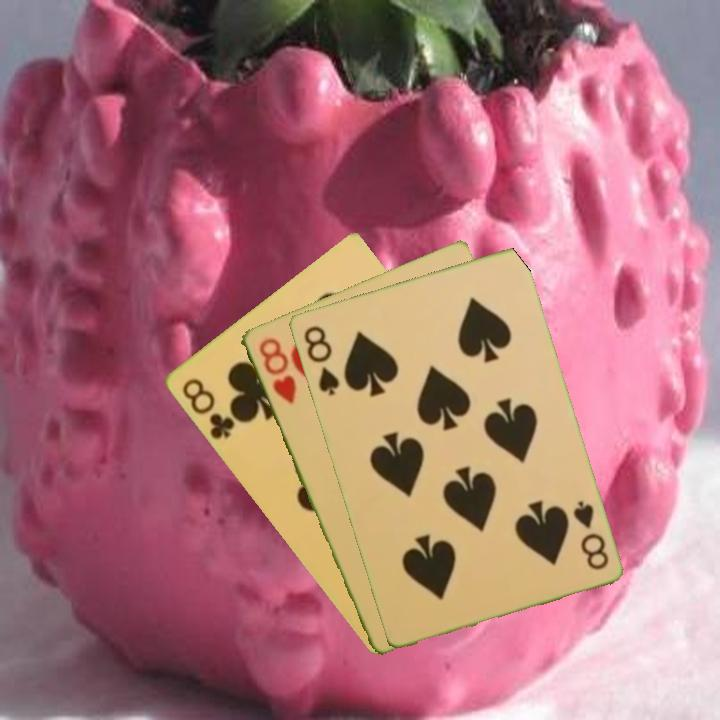8c: (177, 374, 237, 442)
8h: (254, 334, 299, 406)
8s: (299, 322, 342, 399), (569, 497, 611, 573)
